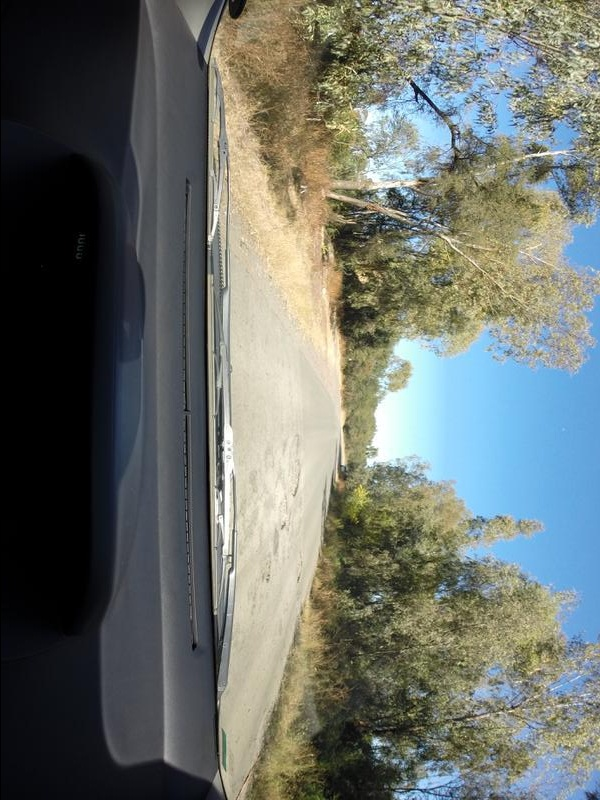pothole: (288, 464, 302, 499), (277, 506, 288, 528), (262, 554, 269, 583), (296, 558, 304, 582)
